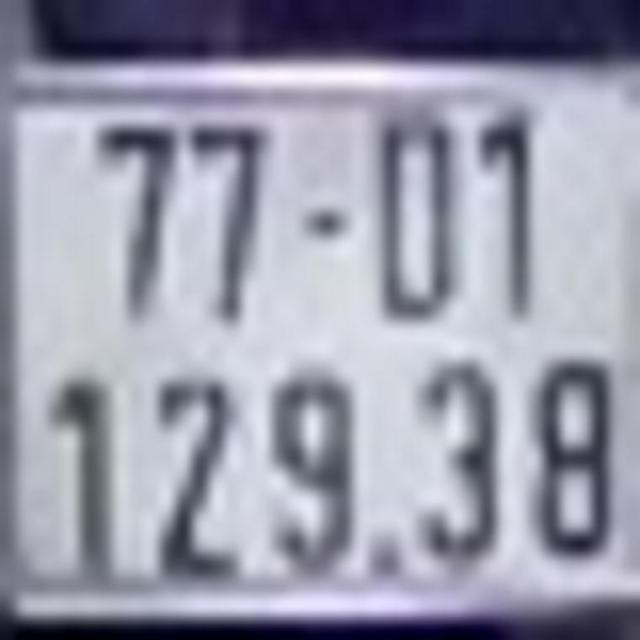1: (48, 380, 115, 590), (481, 117, 540, 326)
2: (150, 376, 240, 578)
3: (419, 364, 496, 559)
7: (94, 118, 176, 332), (187, 123, 260, 336)
8: (538, 358, 611, 556)
9: (272, 372, 355, 574)
D: (372, 112, 452, 326)
